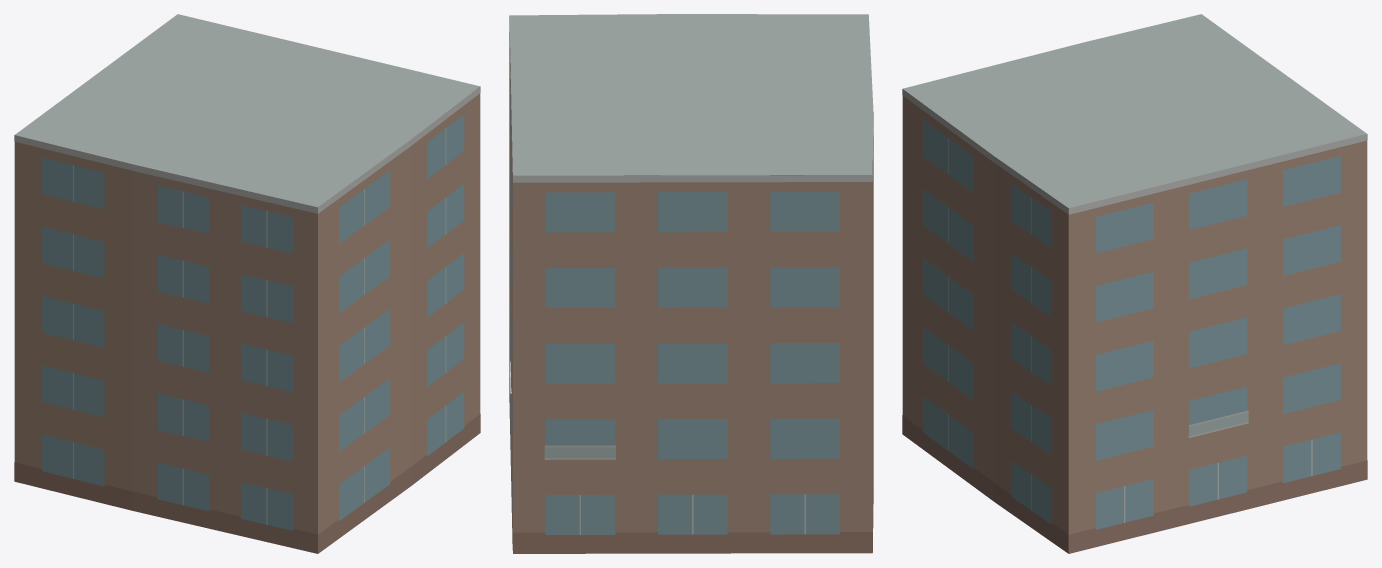
The model's file is survey-upis-32538484.glb.
The picture shows the model from 3 angles, left to right: view 1: azimuth 30°, elevation 25°; view 2: azimuth 150°, elevation 25°; view 3: azimuth 270°, elevation 25°; orthographic projection. The views are drawn at different scales.
Visible parts, largest first — view 1: survey-upis-32538484.tmp; view 2: survey-upis-32538484.tmp; view 3: survey-upis-32538484.tmp.
Boxes of the visible parts, box(x1,y1,x2,y2) form: survey-upis-32538484.tmp: box(14, 14, 480, 553); survey-upis-32538484.tmp: box(509, 14, 873, 553); survey-upis-32538484.tmp: box(902, 14, 1367, 553).
Size of the model in its own units: 15.75 by 13.05 by 15.93.
